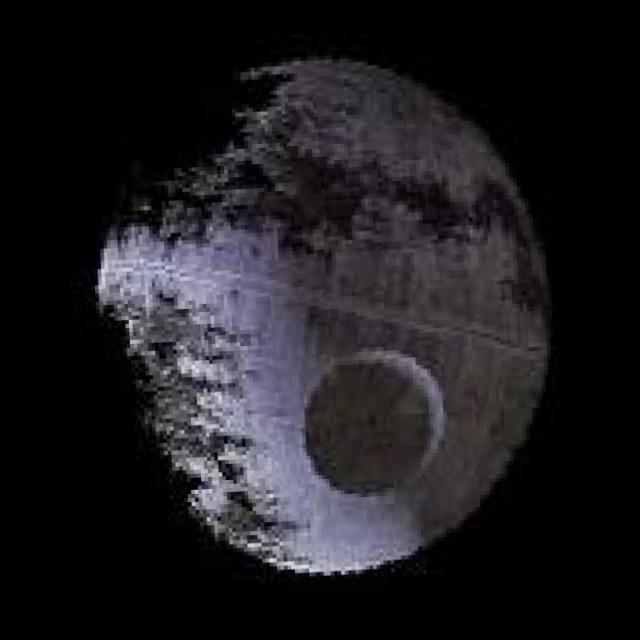Death Star: (79, 36, 572, 596)
